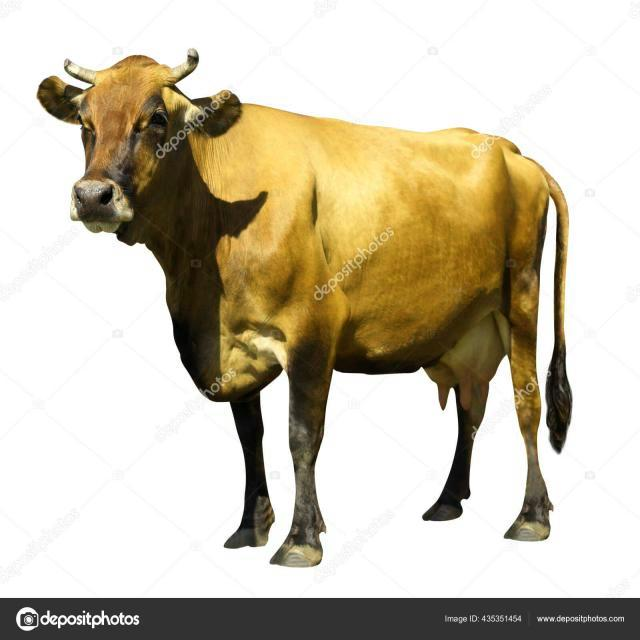cow: (38, 50, 571, 566)
